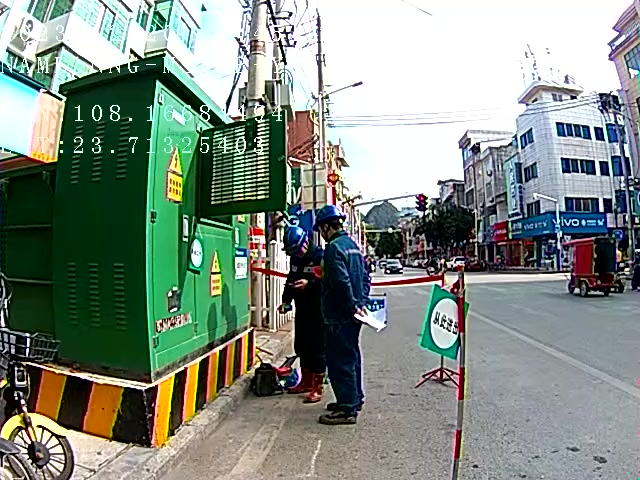downsuit: (325, 328, 362, 409), (288, 316, 332, 373)
halt: (315, 206, 346, 242)
hand: (289, 278, 308, 293)
inear: (321, 222, 336, 234)
intosign: (423, 285, 466, 361)
person: (317, 205, 370, 421), (278, 224, 329, 402)
shoe: (293, 366, 323, 402)
upsuit: (319, 230, 373, 311), (284, 253, 324, 314)
worksign: (185, 233, 206, 274)
